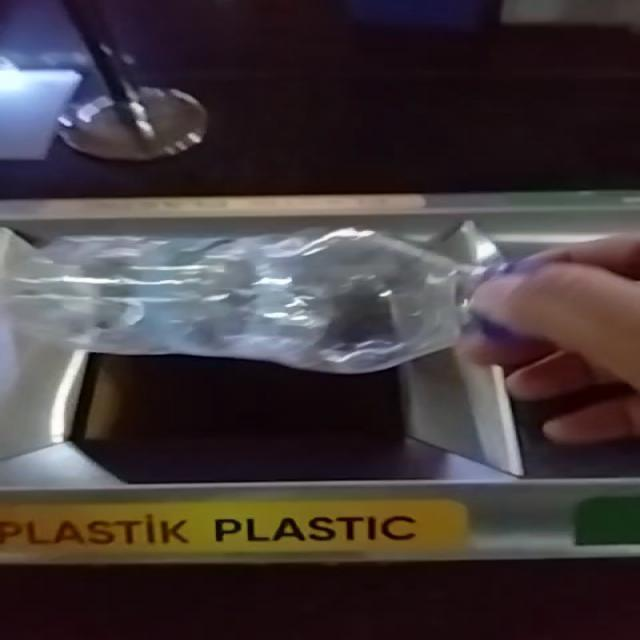Plastic: (5, 228, 487, 374)
